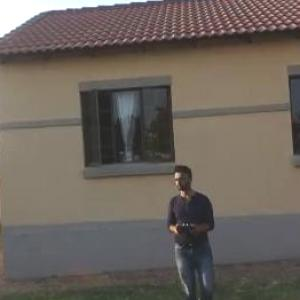follow: (152, 166, 216, 299)
